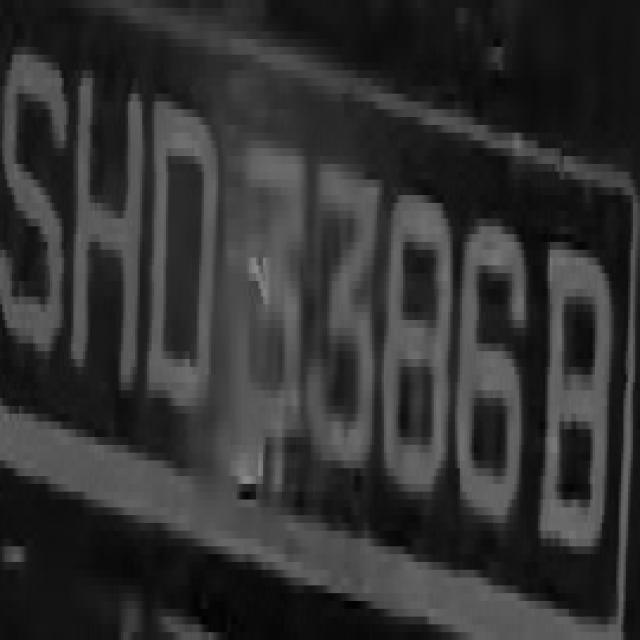3: (232, 102, 310, 476), (313, 148, 379, 492)
6: (455, 156, 533, 562)
8: (374, 140, 452, 523)
B: (540, 203, 616, 570)
D: (149, 70, 216, 437)
H: (69, 47, 147, 437)
S: (4, 0, 68, 398)
